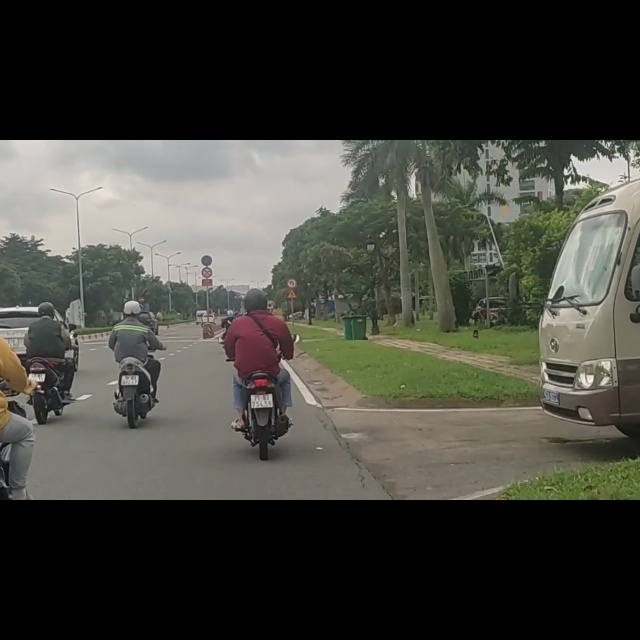bien_cam: (201, 204, 213, 224), (202, 225, 213, 245), (286, 244, 297, 263), (287, 264, 297, 282), (138, 277, 146, 289), (139, 290, 147, 301)
